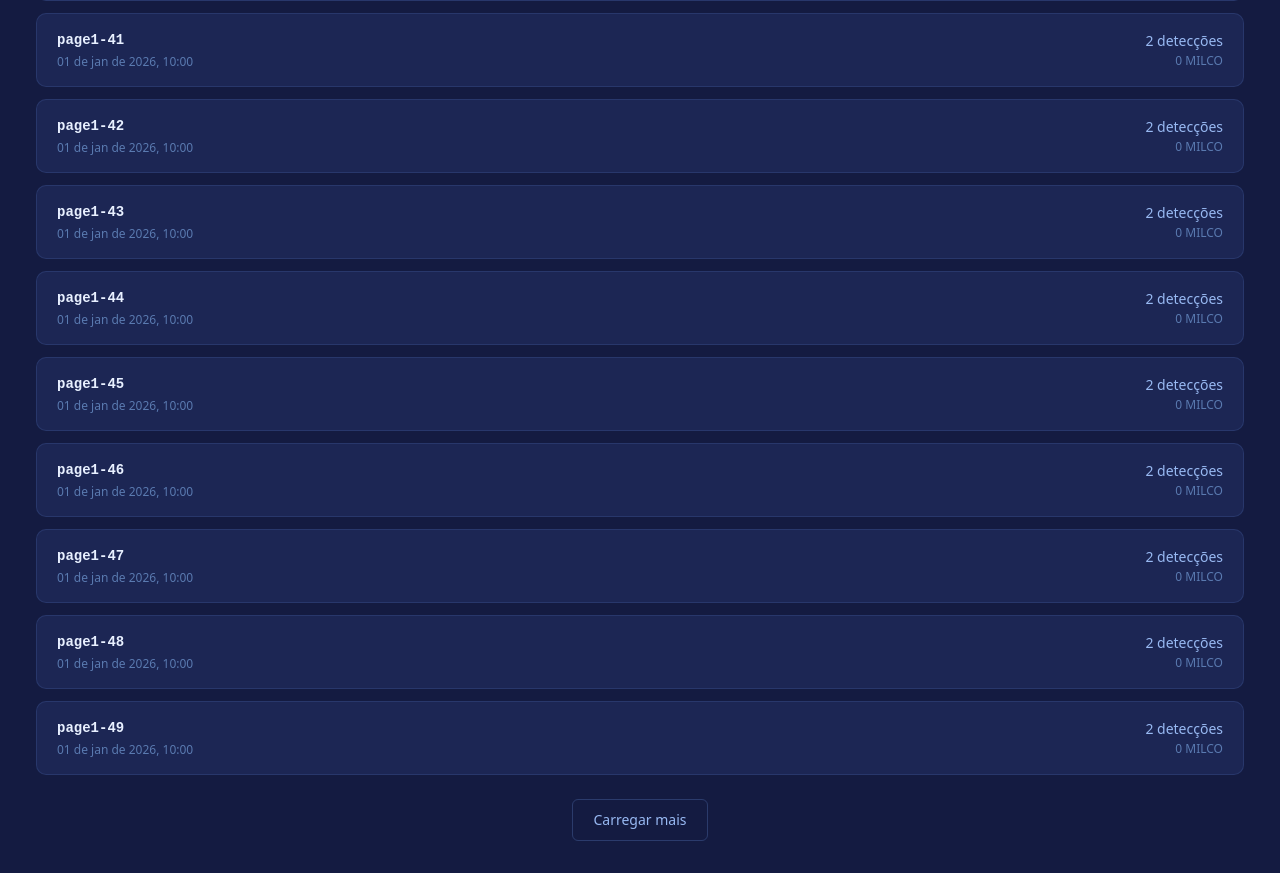
HistoricoPage › appends items when Carregar mais is clicked
This screenshot has width=1280, height=873.
(page scrolled)
Expected: the text "bbbbbbbb" is not shown
Click the button "Carregar mais" at point(640, 820), box [572,798,708,840]
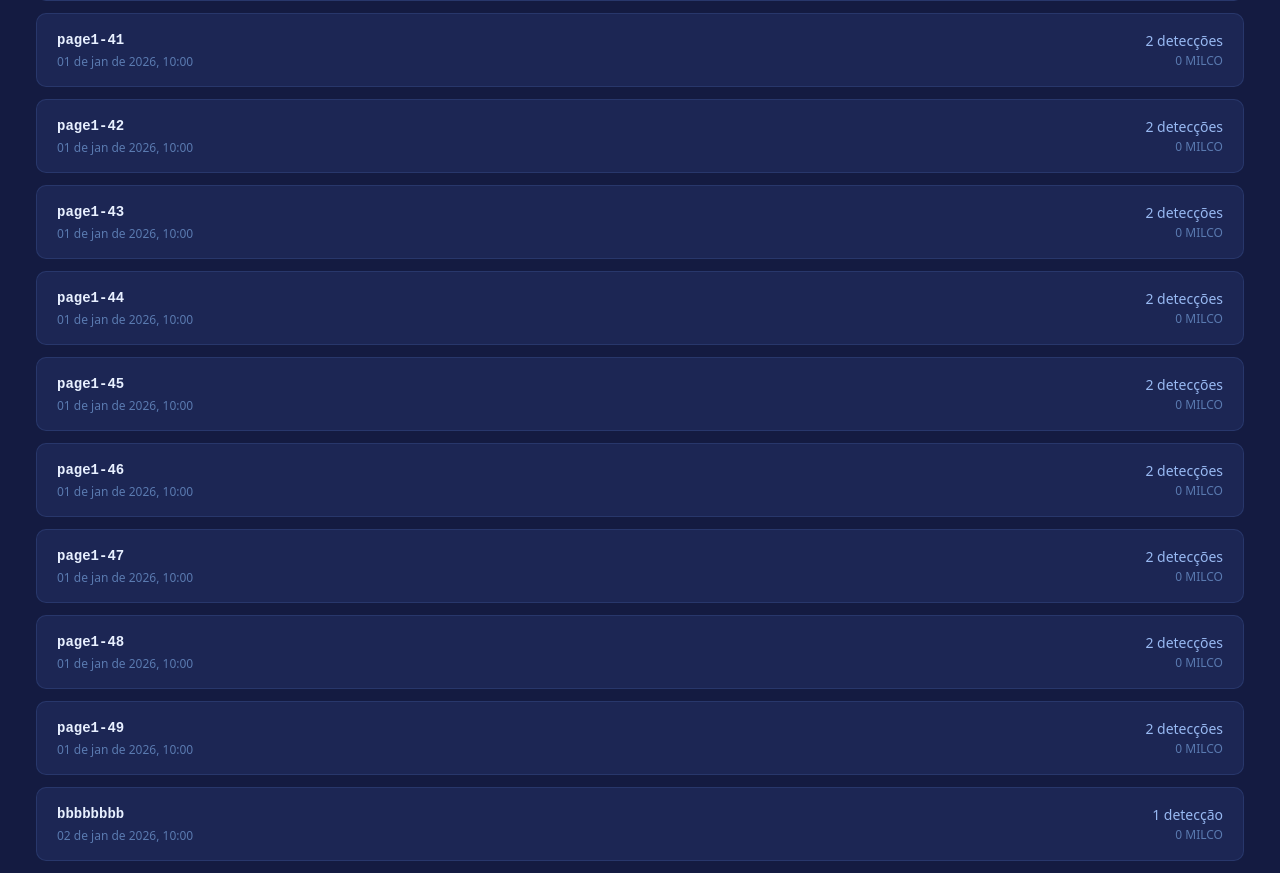
Now the text "bbbbbbbb" is shown, box [57,806,124,822]
